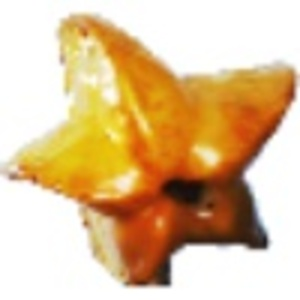carambola: (1, 11, 300, 290)
